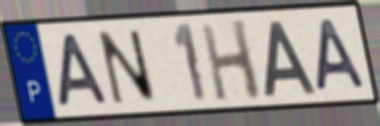1: (171, 20, 209, 106)
A: (262, 18, 319, 99), (55, 32, 111, 109), (314, 16, 369, 94)
H: (197, 17, 265, 104)
N: (95, 28, 160, 107)
